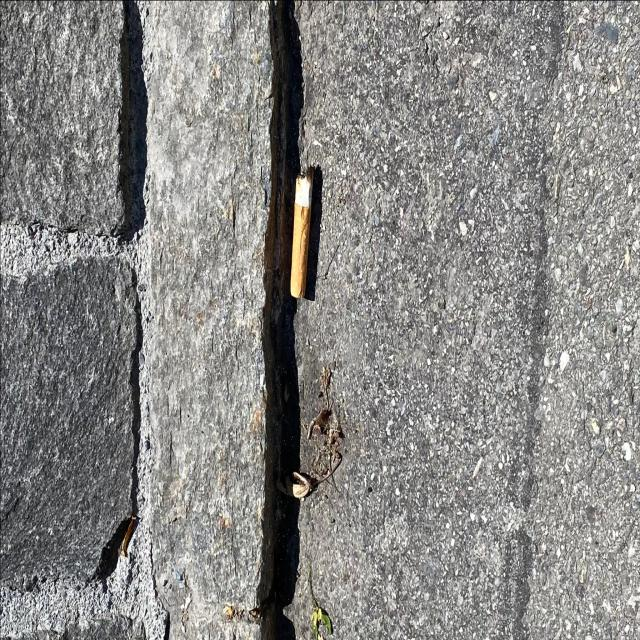other waste: (289, 164, 314, 299)
